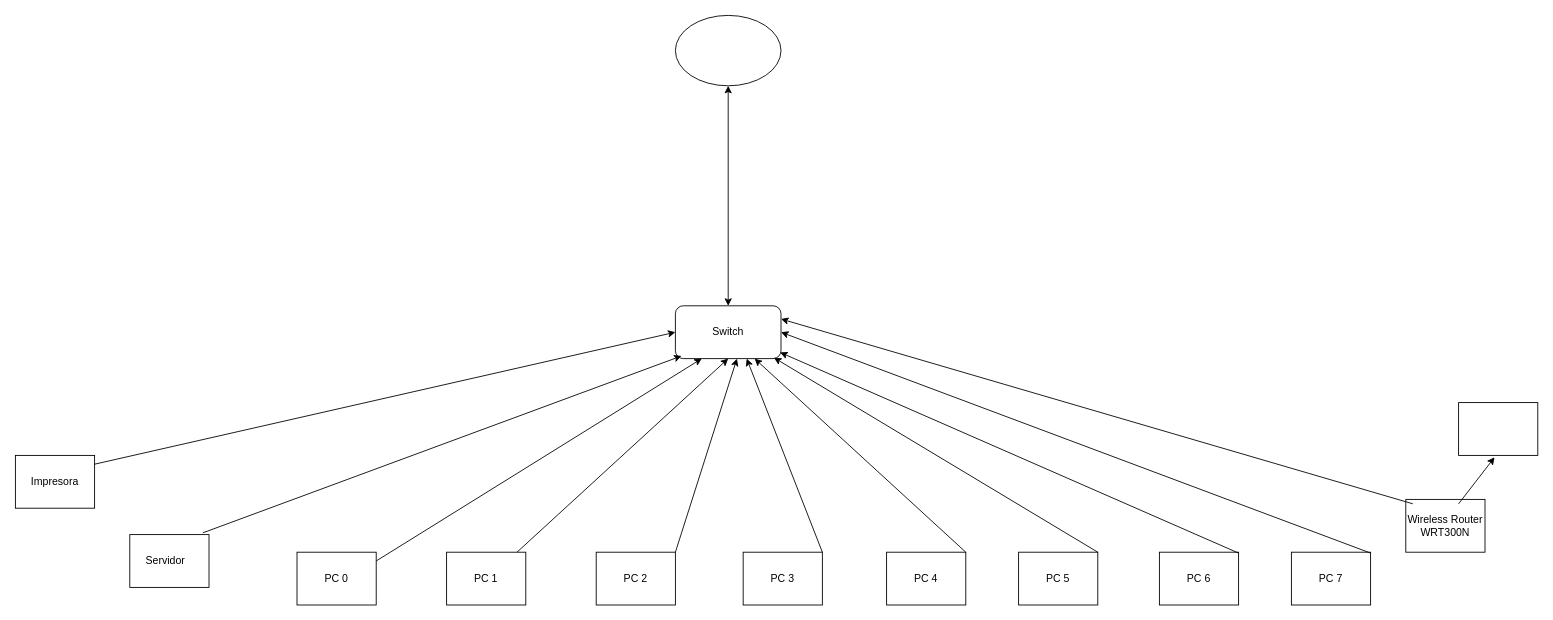
The diagram is 1553 pixels wide and 620 high, and some of its shapes have lost their labels. Here are the shapes that lost their labels. From the top down, the box of each, then its label:
(675, 15, 781, 86): Router
(1458, 402, 1538, 455): Portátil
